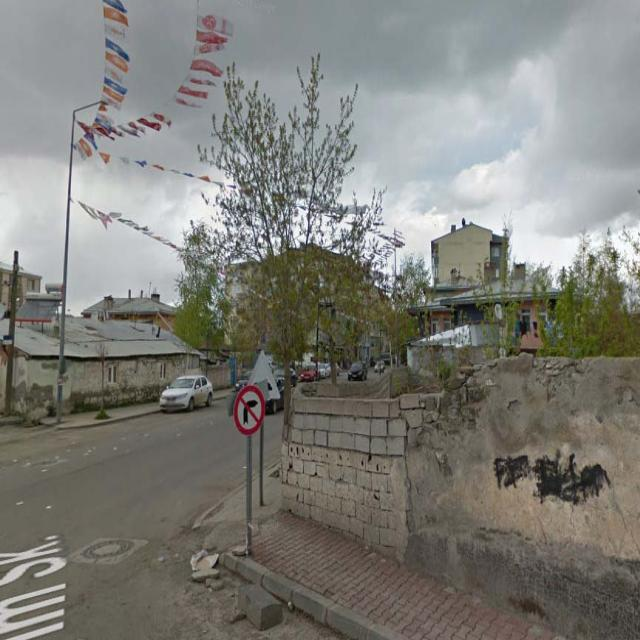sagadonulmez: (233, 385, 264, 434)
